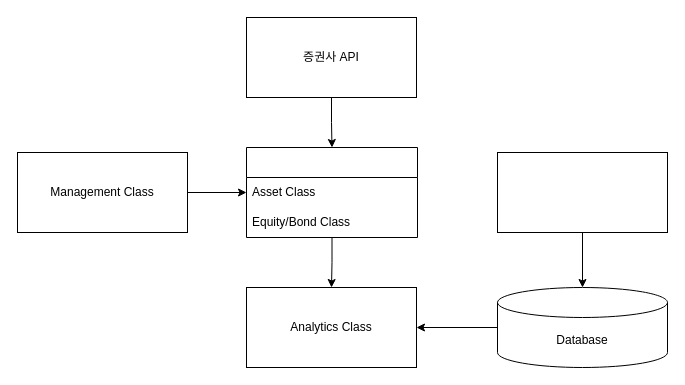
Image size: 685x385. Some labels were removed from this diagram. The box of each missing label's shape, as (x1, y1, x2, y2) in pixels:
Data Vendar: (496, 152, 668, 232)
Portfolio Class: (246, 146, 418, 238)
